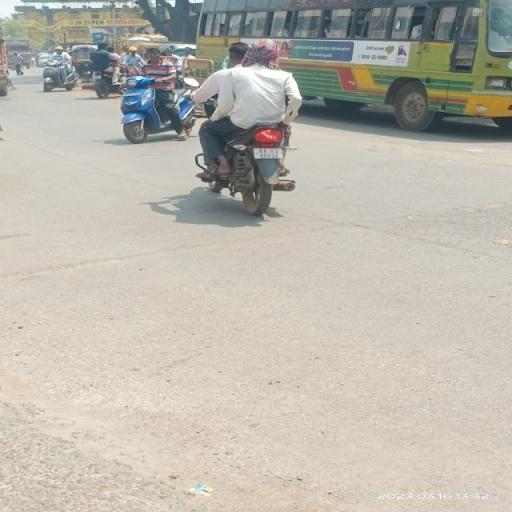bike: (182, 31, 310, 219)
numberplate: (255, 148, 282, 160)
withouthelmet: (248, 40, 278, 64), (228, 44, 248, 64)
